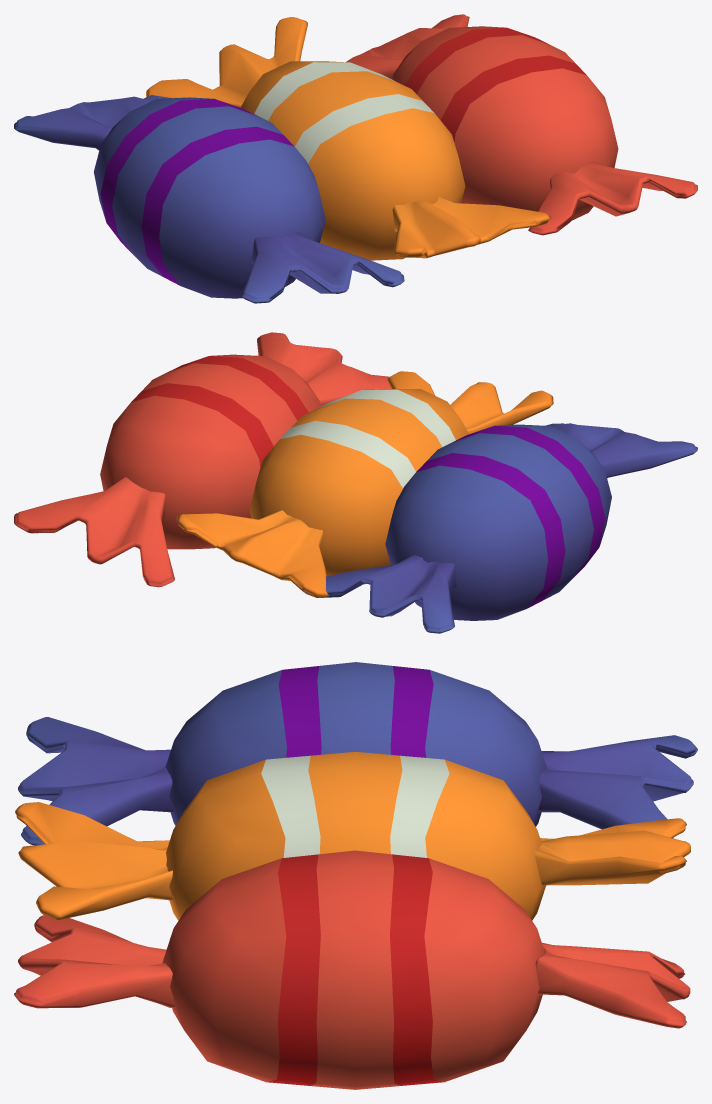
The model's file is candies.fbx.
The picture shows the model from 3 angles, top to bottom: view 1: azimuth 30°, elevation 25°; view 2: azimuth 150°, elevation 25°; view 3: azimuth 270°, elevation 25°; orthographic projection. The views are drawn at different scales.
Visible parts, largest first — view 1: Plane.006, Plane.009, Plane.003; view 2: Plane.006, Plane.003, Plane.009; view 3: Plane.003, Plane.009, Plane.006.
Part boxes in pixels (left/top/right/bottom): Plane.006: left=14, top=95, right=404, bottom=303; Plane.009: left=146, top=17, right=551, bottom=260; Plane.003: left=345, top=14, right=697, bottom=235; Plane.006: left=304, top=423, right=697, bottom=633; Plane.003: left=14, top=332, right=391, bottom=587; Plane.009: left=176, top=371, right=553, bottom=597; Plane.003: left=14, top=850, right=690, bottom=1089; Plane.009: left=15, top=752, right=690, bottom=920; Plane.006: left=18, top=662, right=697, bottom=845.
Bounding box in the file's own units: 43.97 × 14.38 × 42.46.
Materials: 1 (1 with a texture image).
